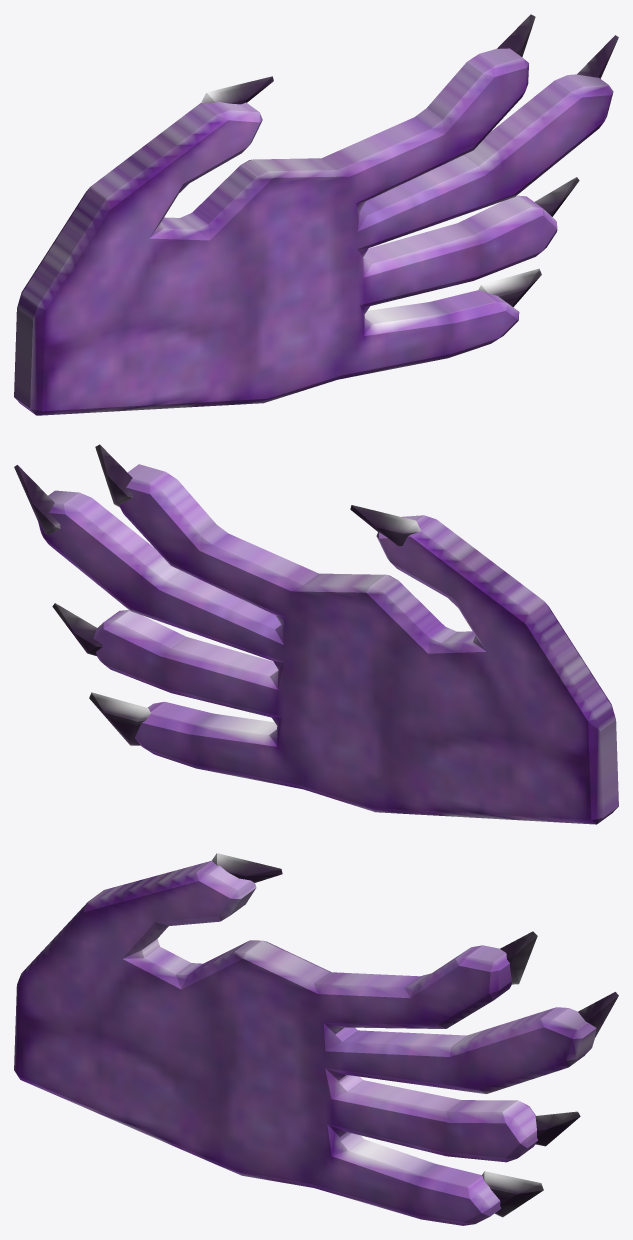
File: monkeyspaw1.fbx
3 views of the same model, one above another, from view 1: azimuth 30°, elevation 25°; view 2: azimuth 150°, elevation 25°; view 3: azimuth 330°, elevation 25° (orthographic). The views are drawn at different scales.
Parts seen in each view (by area): view 1: open, nailsopen; view 2: open, nailsopen; view 3: open, nailsopen.
Part boxes in pixels (bbox=[...]): open: bbox=[14, 48, 613, 415]; nailsopen: bbox=[201, 14, 618, 307]; open: bbox=[37, 464, 618, 824]; nailsopen: bbox=[14, 444, 421, 745]; open: bbox=[14, 861, 596, 1225]; nailsopen: bbox=[211, 853, 618, 1217].
Bounding box in the file's own units: 112 × 54.87 × 8.35.
